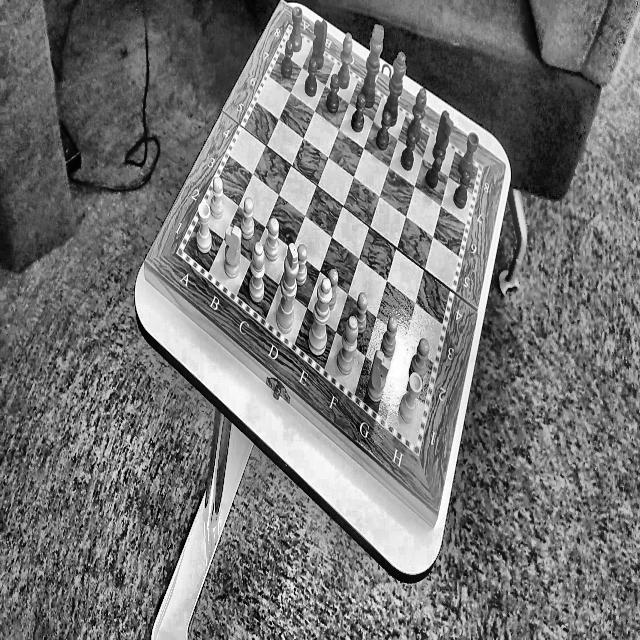chessboard: (184, 31, 478, 445)
